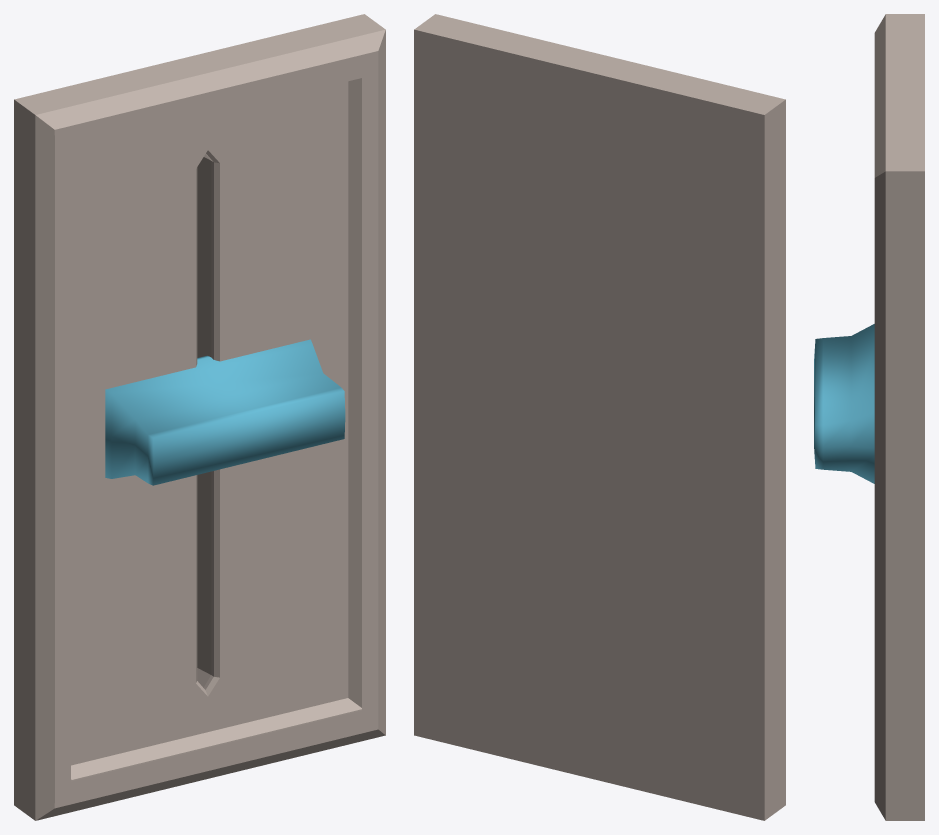
Rendered from Dimmer_1.fbx.
3 views of the same model, side by side, from view 1: azimuth 30°, elevation 25°; view 2: azimuth 150°, elevation 25°; view 3: azimuth 270°, elevation 25° (orthographic). The views are drawn at different scales.
Parts seen in each view (by area): view 1: Dimmer_Board, Dimmer_Handle; view 2: Dimmer_Board; view 3: Dimmer_Board, Dimmer_Handle.
Boxes of the visible parts, x1=… form: Dimmer_Board: x1=14, y1=14, x2=385, y2=820; Dimmer_Handle: x1=105, y1=339, x2=345, y2=485; Dimmer_Board: x1=414, y1=14, x2=785, y2=820; Dimmer_Board: x1=874, y1=14, x2=924, y2=820; Dimmer_Handle: x1=814, y1=324, x2=874, y2=483.
Size of the model in its own units: 9.32 by 17.95 by 2.78.
1 material, 1 textured.
